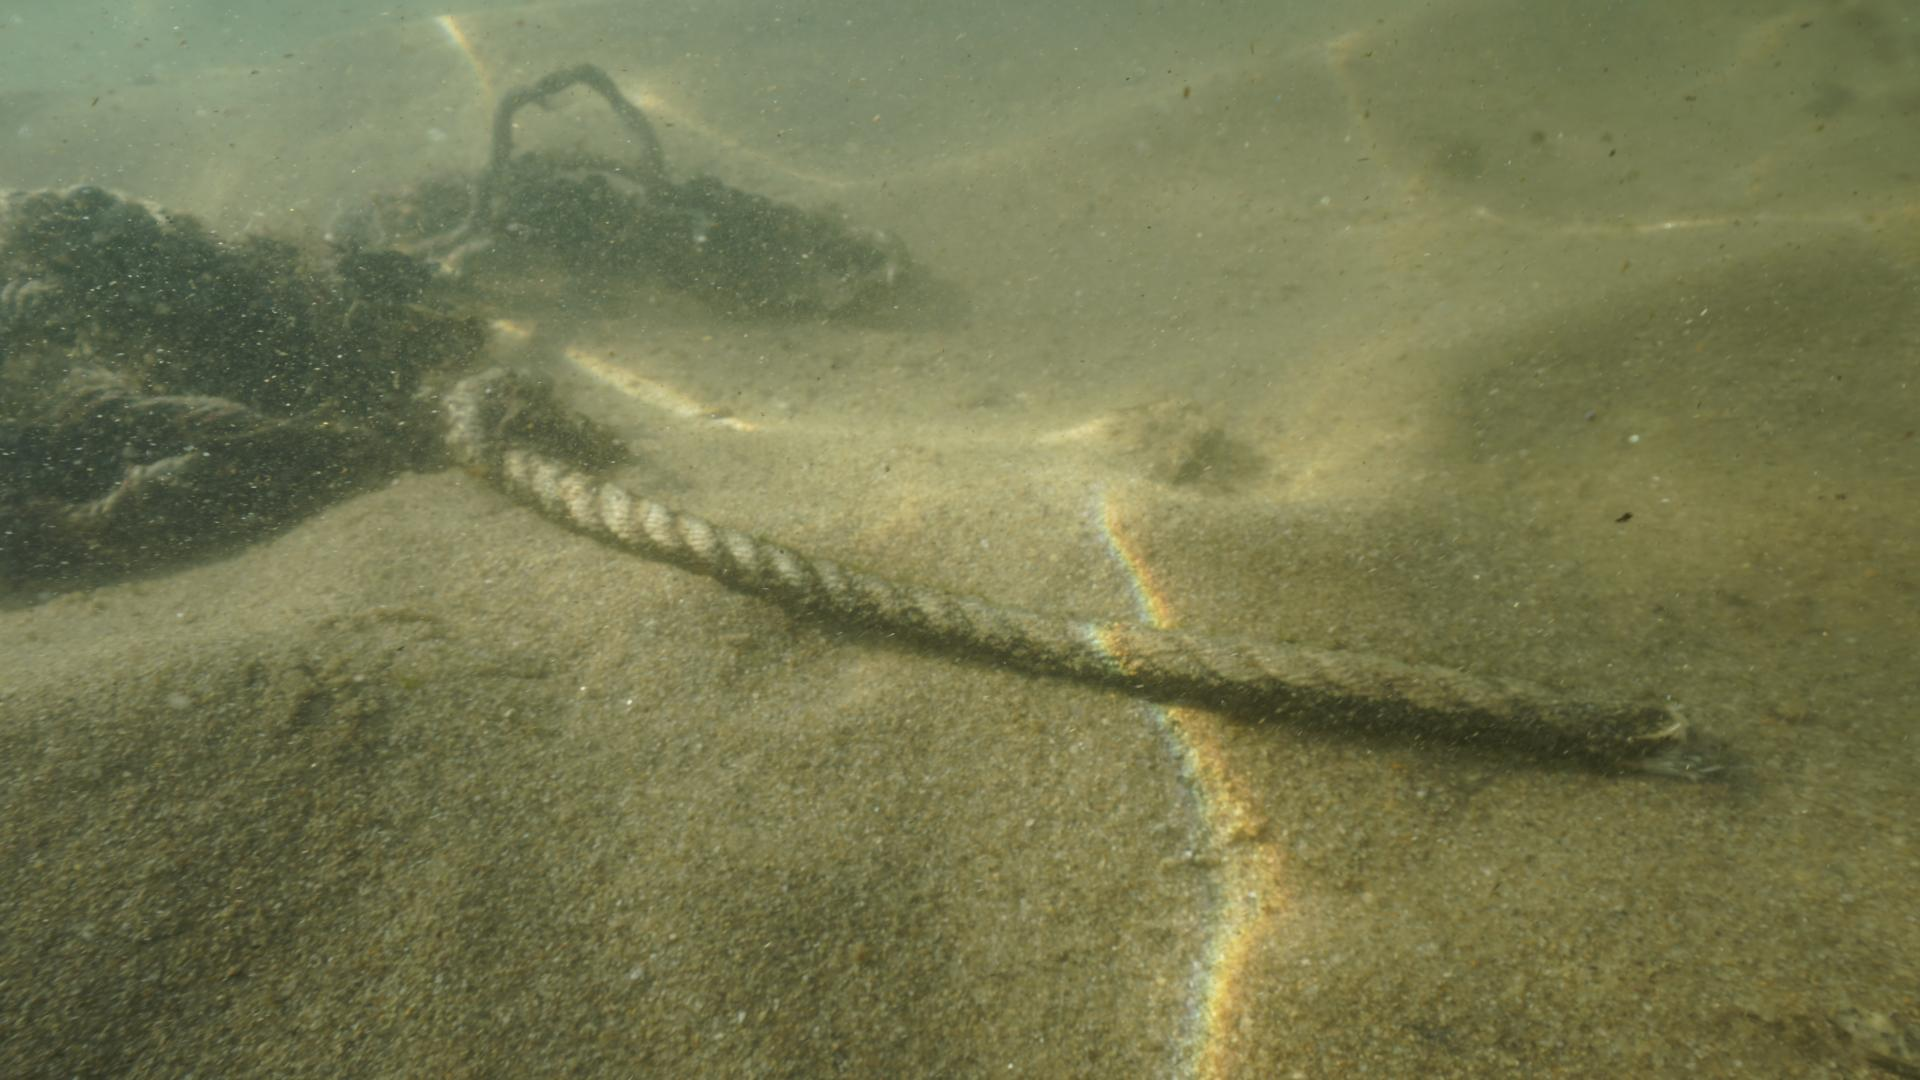rope: (409, 359, 1636, 748)
